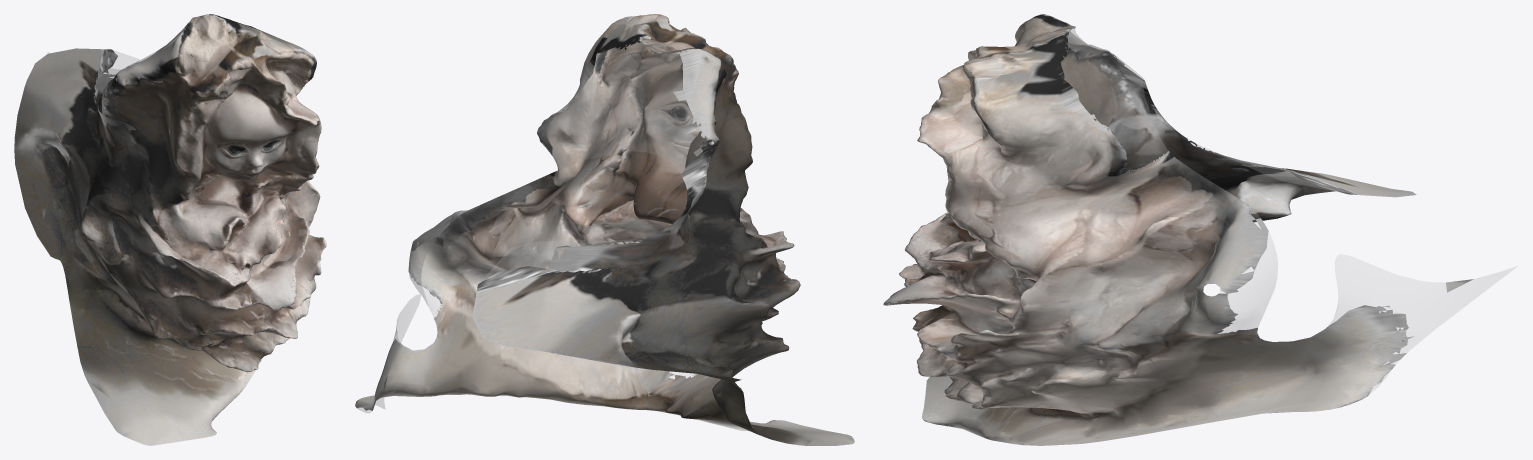
File: pinkelEye.glb
3 renders of one model, left to right at view 1: azimuth 30°, elevation 25°; view 2: azimuth 150°, elevation 25°; view 3: azimuth 270°, elevation 25°, orthographic. The views are drawn at different scales.
Visible parts, largest first — view 1: pinkelEye; view 2: pinkelEye; view 3: pinkelEye.
Part boxes in pixels (box(x1,y1,x2,y2)): pinkelEye: box(14, 14, 326, 445); pinkelEye: box(355, 14, 854, 445); pinkelEye: box(883, 14, 1515, 445).
Bounding box in the file's own units: 15.62 × 19.71 × 26.81.
2 materials, 1 textured.
